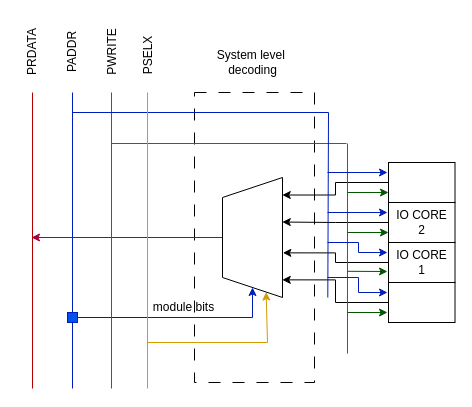
This 472x407 diagram has some shape labels left out. The shapes that lost their labels are listed below. From the top down, each one's centre as x and y in pixels, then its label:
At [421,182]: "IO CORE 3".
At [421,302]: "IO CORE 0".
